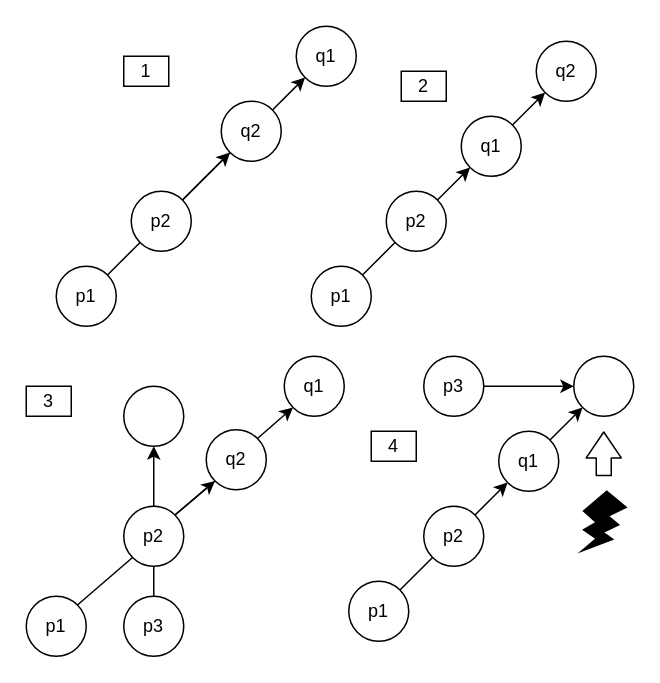
The diagram is 660 pixels wide and 683 high, and some of its shapes have lost their labels. Each missing label, with the centre of its shape:
q2/q3: pixel 603 385
q3: pixel 153 415
